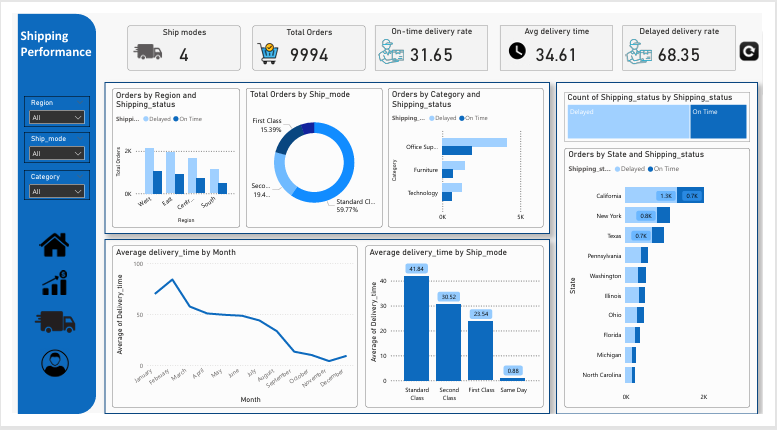

The page's visual inventory and layout, read from the dashboard file:
{"tool":"powerbi","page":{"name":"Shipping","canvas":[1500,800],"ordinal":2},"visuals":[{"type":"shape","box":[184.4,137.4,888.3,301.7],"z":0},{"type":"shape","box":[1087.1,137.1,401.6,662.9],"z":1000},{"type":"card","title":"Avg delivery time","fields":{"Values":["Avg(Retail_Sales.Delivery_time)"]},"box":[974.2,22.6,225.8,90.3],"z":2000},{"type":"card","title":"On-time delivery rate","fields":{"Values":["Retail_Sales.On_time_delivery_rate"]},"box":[724.2,22.6,225.8,90.3],"z":3000},{"type":"card","title":"Delayed delivery rate","fields":{"Values":["Retail_Sales.Delayed_delivery_rate"]},"box":[1219.4,22.6,225.8,90.3],"z":4000},{"type":"image","box":[724.2,43.5,64.5,62.9],"z":5000},{"type":"shape","box":[184.4,450.8,888.3,348.6],"z":6000},{"type":"clusteredColumnChart","title":"Orders by Region and Shipping_status","fields":{"Y":["Retail_Sales.Total Orders"],"Category":["Retail_Sales.Region"],"Series":["Retail_Sales.Shipping_delay"]},"box":[197.8,149.2,256.4,278.2],"z":7000},{"type":"donutChart","fields":{"Y":["Retail_Sales.Total Orders"],"Category":["Retail_Sales.Ship_mode"]},"box":[466.1,148.4,272.6,279],"z":8000},{"type":"clusteredColumnChart","title":"Average delivery_time by Ship_mode","fields":{"Y":["Avg(Retail_Sales.Delivery_time)"],"Category":["Retail_Sales.Ship_mode"]},"box":[704.8,462.9,356.5,324.2],"z":9000},{"type":"barChart","title":" Orders by State and Shipping_status","fields":{"Category":["Retail_Sales.State"],"Y":["Retail_Sales.Total Orders"],"Series":["Retail_Sales.Shipping_status"]},"box":[1103.2,267.7,371,519.4],"z":10000},{"type":"lineChart","title":"Average delivery_time by Month","fields":{"Category":["Date_Table.Date.Variation.Date Hierarchy.Month"],"Y":["Avg(Retail_Sales.Delivery_time)"]},"box":[198.4,462.9,490.3,324.2],"z":11000},{"type":"treemap","fields":{"Group":["Retail_Sales.Shipping_delay"],"Values":["CountNonNull(Retail_Sales.Shipping_status)"]},"box":[1103.2,156.5,371,100],"z":12000},{"type":"clusteredBarChart","title":" Orders by Category and Shipping_status","fields":{"Category":["Retail_Sales.Category"],"Y":["Retail_Sales.Total Orders"],"Series":["Retail_Sales.Shipping_delay"]},"box":[750,148.4,311.3,279],"z":13000},{"type":"shape","box":[9.7,0,156,800],"z":14000},{"type":"textbox","box":[10.1,21.8,155.9,127.4],"z":15000},{"type":"slicer","fields":{"Values":["Retail_Sales.Region"]},"box":[21.8,164.2,132.4,62],"z":16000},{"type":"slicer","fields":{"Values":["Retail_Sales.Ship_mode"]},"box":[21.8,236.3,132.4,62],"z":17000},{"type":"slicer","fields":{"Values":["Retail_Sales.Category"]},"box":[21.8,311.7,132.4,60.3],"z":18000},{"type":"image","box":[229.6,40.2,78.8,70.4],"z":19000},{"type":"image","box":[974.2,43.5,64.5,62.9],"z":20000},{"type":"image","box":[1220.1,43.6,63.7,63.7],"z":21000},{"type":"image","box":[43.6,427.4,78.8,68.7],"z":22000},{"type":"image","box":[52,507.8,63.7,60.3],"z":23000},{"type":"image","box":[35.2,568.2,97.2,95.5],"z":24000},{"type":"image","box":[48.6,663.7,70.4,68.7],"z":25000},{"type":"image","box":[1445.2,27.4,54.8,93.5],"z":26000},{"type":"card","title":"Total Orders","fields":{"Values":["Retail_Sales.Total Orders"]},"box":[479,22.6,225.8,90.3],"z":27000},{"type":"image","box":[479.3,52,60.3,55.3],"z":28000},{"type":"card","title":"Ship modes","fields":{"Values":["Count(Retail_Sales.Ship_mode)"]},"box":[229,22.6,225.8,90.3],"z":29000}]}

Visuals, with their boxes in screenshot pixels (x1, y1, x2, y2):
shape: box=[103, 86, 541, 235]
shape: box=[548, 86, 746, 412]
"Avg delivery time" card: box=[492, 29, 603, 74]
"On-time delivery rate" card: box=[369, 29, 480, 74]
"Delayed delivery rate" card: box=[613, 29, 724, 74]
image: box=[369, 40, 401, 71]
shape: box=[103, 240, 541, 412]
"Orders by Region and Shipping_status" clusteredColumnChart: box=[110, 92, 236, 229]
donutChart - Retail_Sales.Total Orders x Retail_Sales.Ship_mode: box=[242, 91, 376, 229]
"Average delivery_time by Ship_mode" clusteredColumnChart: box=[359, 246, 535, 406]
" Orders by State and Shipping_status" barChart: box=[556, 150, 739, 406]
"Average delivery_time by Month" lineChart: box=[110, 246, 351, 406]
treemap - Retail_Sales.Shipping_delay x CountNonNull(Retail_Sales.Shipping_status): box=[556, 95, 739, 145]
" Orders by Category and Shipping_status" clusteredBarChart: box=[382, 91, 535, 229]
shape: box=[17, 18, 94, 412]
textbox: box=[17, 29, 94, 92]
slicer - Retail_Sales.Region: box=[23, 99, 88, 130]
slicer - Retail_Sales.Ship_mode: box=[23, 135, 88, 165]
slicer - Retail_Sales.Category: box=[23, 172, 88, 202]
image: box=[125, 38, 164, 73]
image: box=[492, 40, 524, 71]
image: box=[613, 40, 645, 71]
image: box=[34, 229, 72, 263]
image: box=[38, 268, 69, 298]
image: box=[29, 298, 77, 345]
image: box=[36, 345, 71, 379]
image: box=[724, 32, 751, 78]
"Total Orders" card: box=[248, 29, 359, 74]
image: box=[248, 44, 278, 71]
"Ship modes" card: box=[125, 29, 236, 74]
